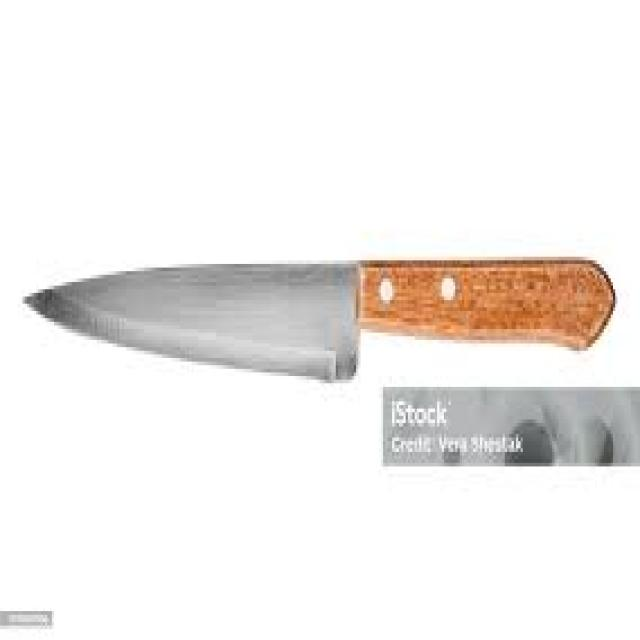Knife: (20, 253, 617, 380)
